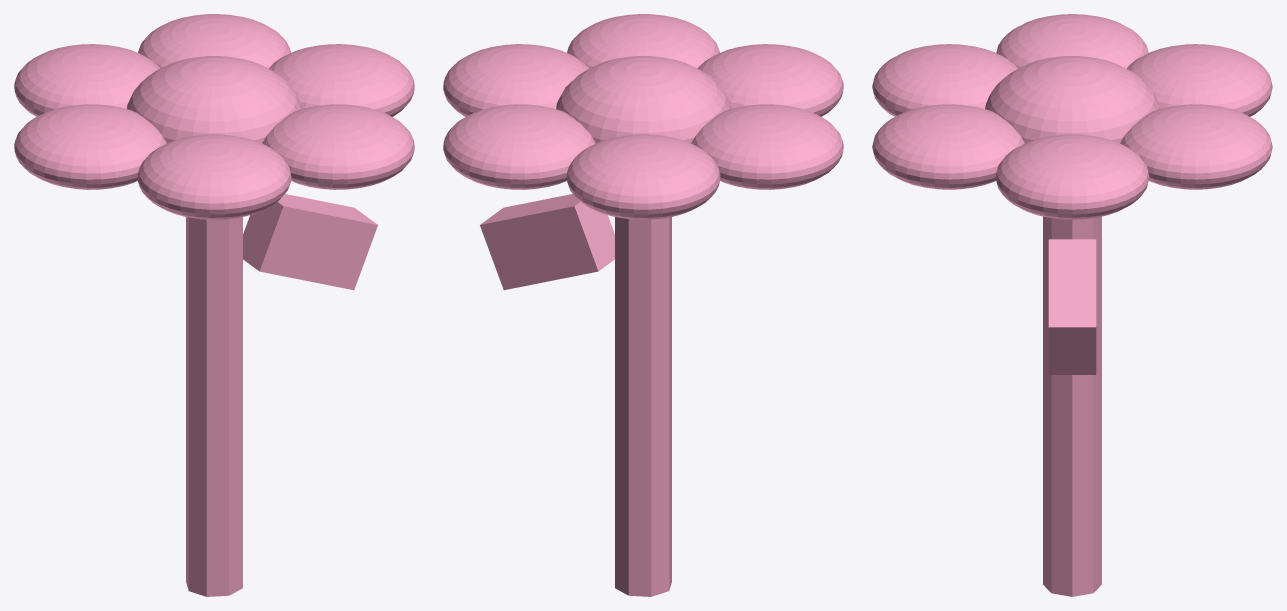
The model's file is flower.fbx.
The picture shows the model from 3 angles, left to right: view 1: azimuth 30°, elevation 25°; view 2: azimuth 150°, elevation 25°; view 3: azimuth 270°, elevation 25°; orthographic projection.
Parts seen in each view (by area): view 1: flower; view 2: flower; view 3: flower.
Boxes of the visible parts, x1,y1,x2,y2 form: flower: (14, 14, 414, 596); flower: (443, 14, 843, 596); flower: (872, 14, 1272, 596).
Bounding box in the file's own units: 74 × 96 × 67.57.
